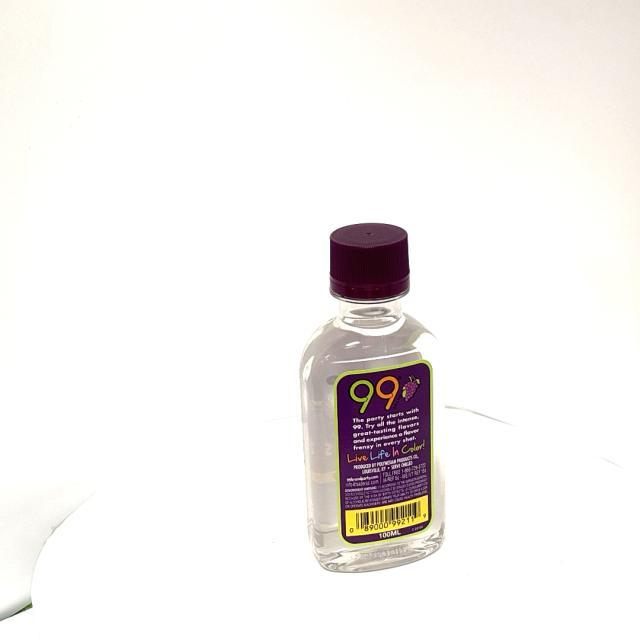99 GRAPES 100ML: (296, 222, 447, 578)
